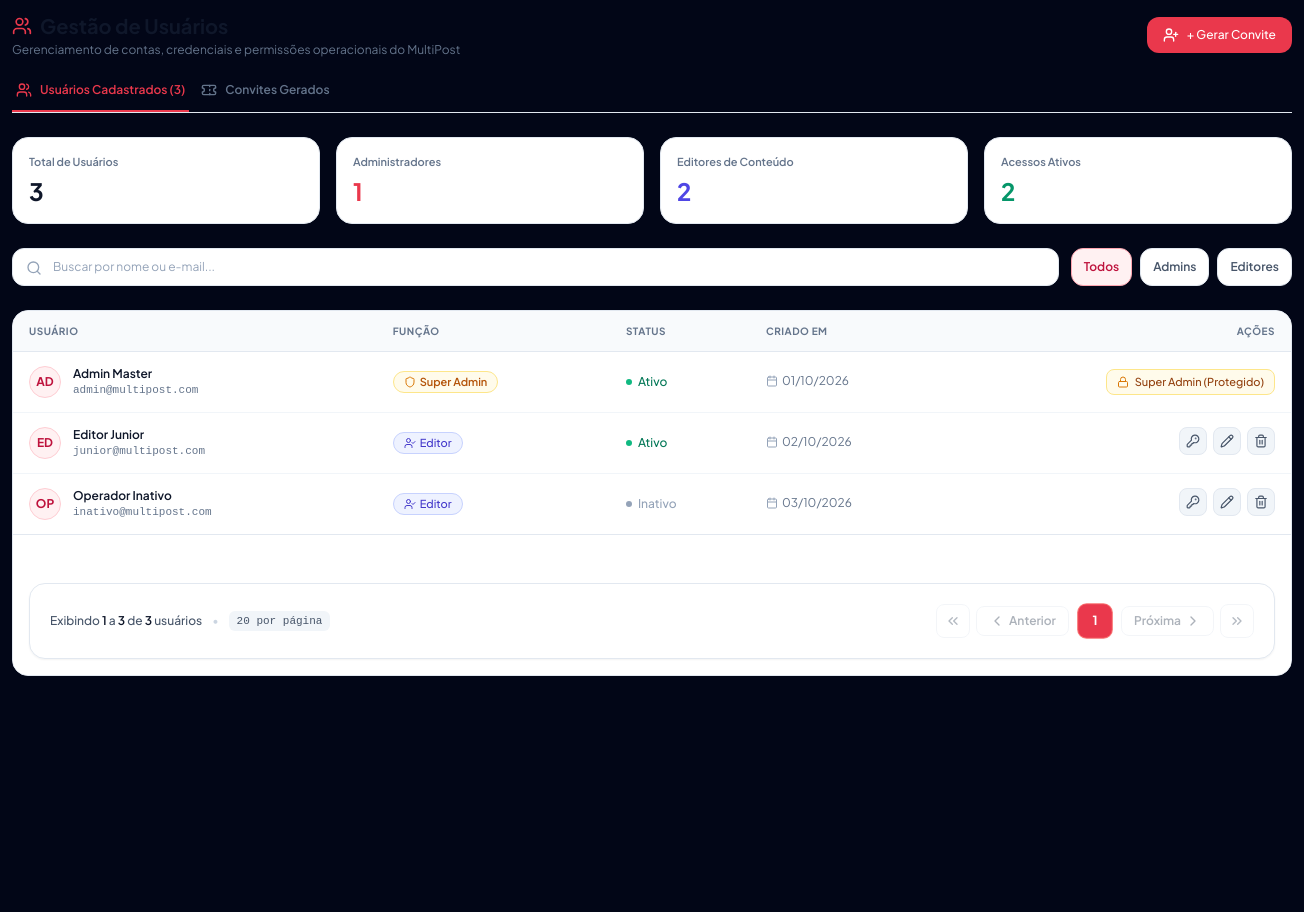
it: UsersManagement Component › filters users by search input
The image size is (1304, 912).
Expected: the text "Admin Master" is shown, [73, 366, 152, 380]
Type "junior" into the field with test id "input-search-users" at (535, 266), box [12, 248, 1059, 286]
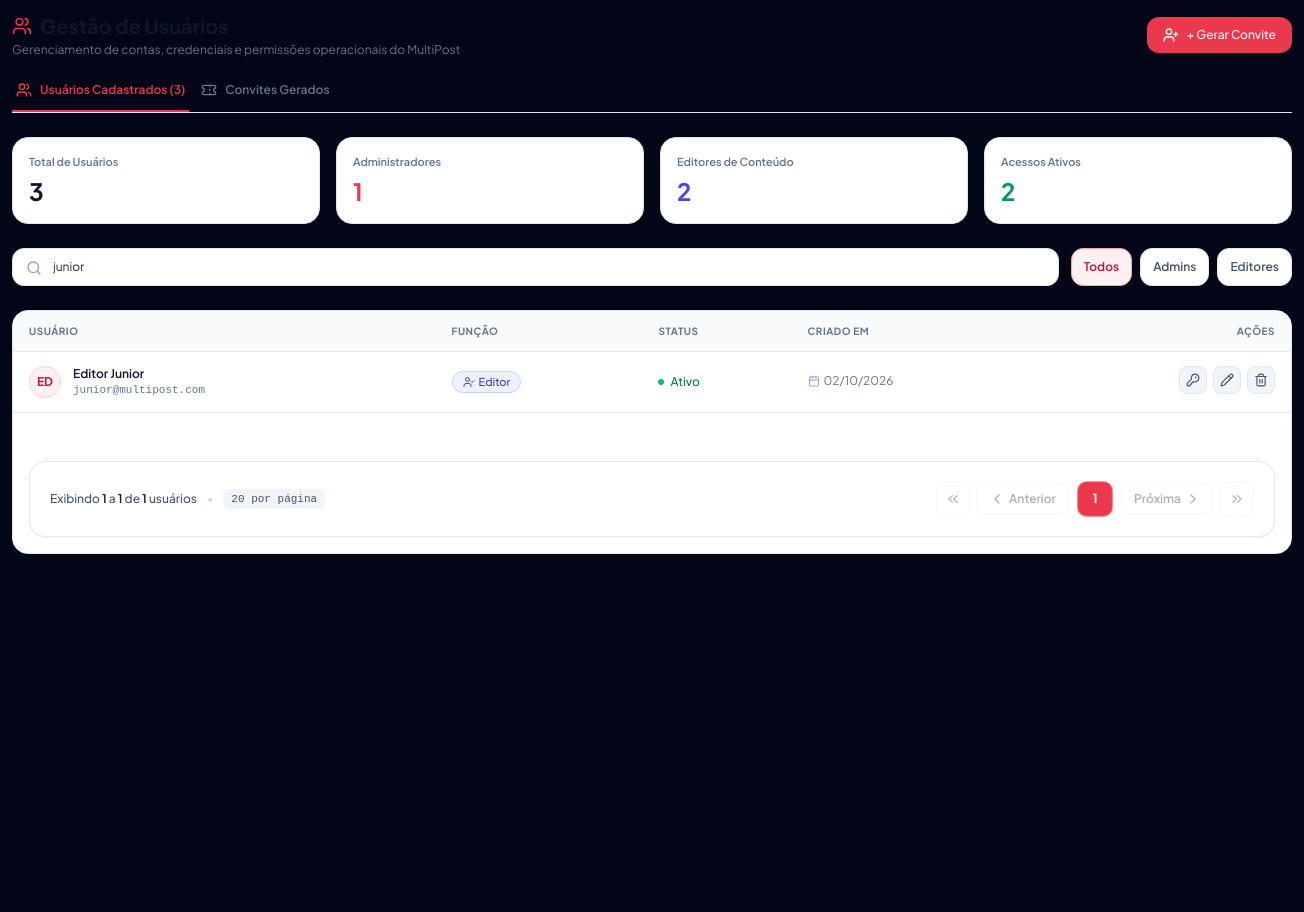
Expected: the text "Editor Junior" is shown, [73, 366, 144, 380]
Result: the text "Admin Master" is gone
Result: the text "Operador Inativo" is gone
